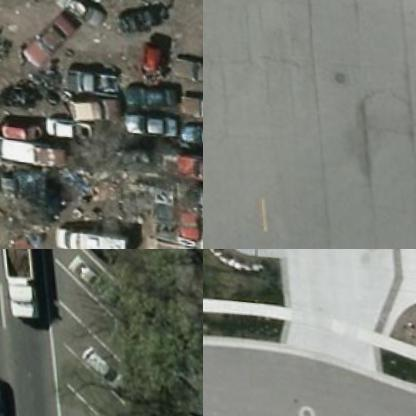car: (11, 0, 88, 71), (80, 344, 130, 387), (62, 251, 112, 294), (118, 104, 184, 134), (122, 75, 188, 105), (0, 129, 56, 161), (56, 223, 124, 248), (169, 48, 202, 80), (172, 52, 202, 83), (0, 363, 12, 415)
